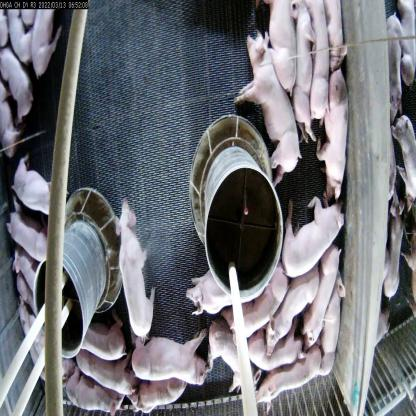Pig: (239, 25, 308, 188), (115, 192, 159, 338), (283, 187, 347, 275), (269, 266, 324, 362), (322, 57, 353, 207), (302, 242, 342, 357), (290, 0, 320, 145), (130, 330, 210, 383), (2, 198, 59, 271), (233, 264, 286, 341), (260, 342, 329, 400), (76, 343, 138, 404), (320, 264, 349, 382), (0, 40, 35, 129), (388, 105, 416, 212), (382, 7, 404, 122), (385, 214, 407, 300), (305, 302, 307, 304)
